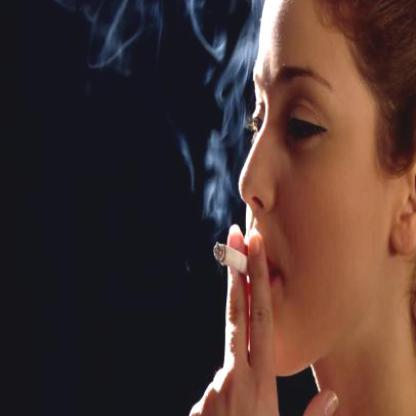cigarette: (214, 242, 253, 276)
person: (228, 0, 414, 408)
smoke: (221, 5, 262, 137), (202, 124, 233, 229)
